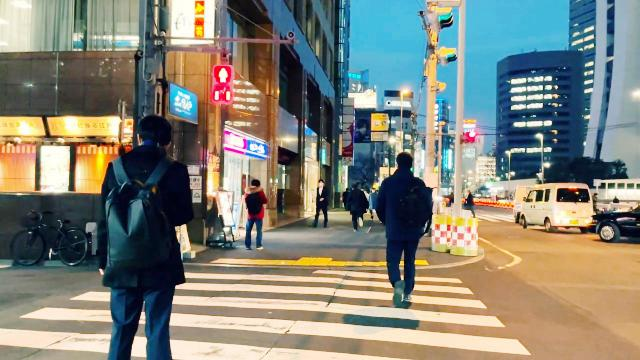berdiri: (102, 118, 192, 360), (240, 178, 272, 254)
berjalan: (371, 146, 441, 322)
